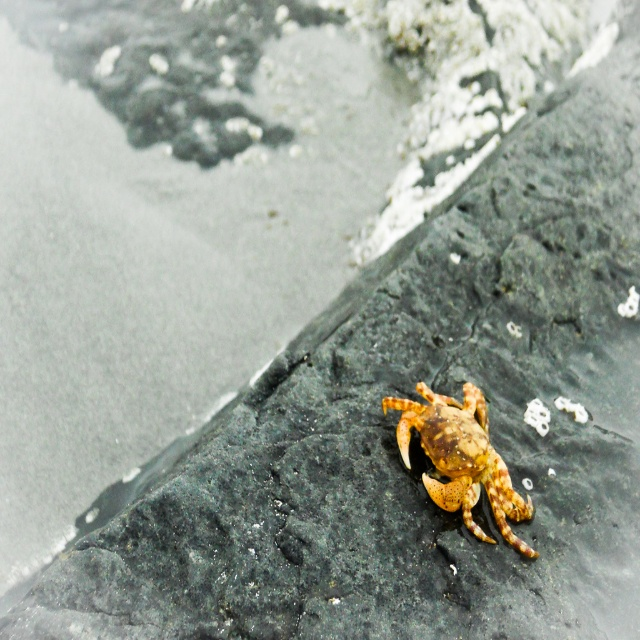Crab: (376, 377, 542, 565)
